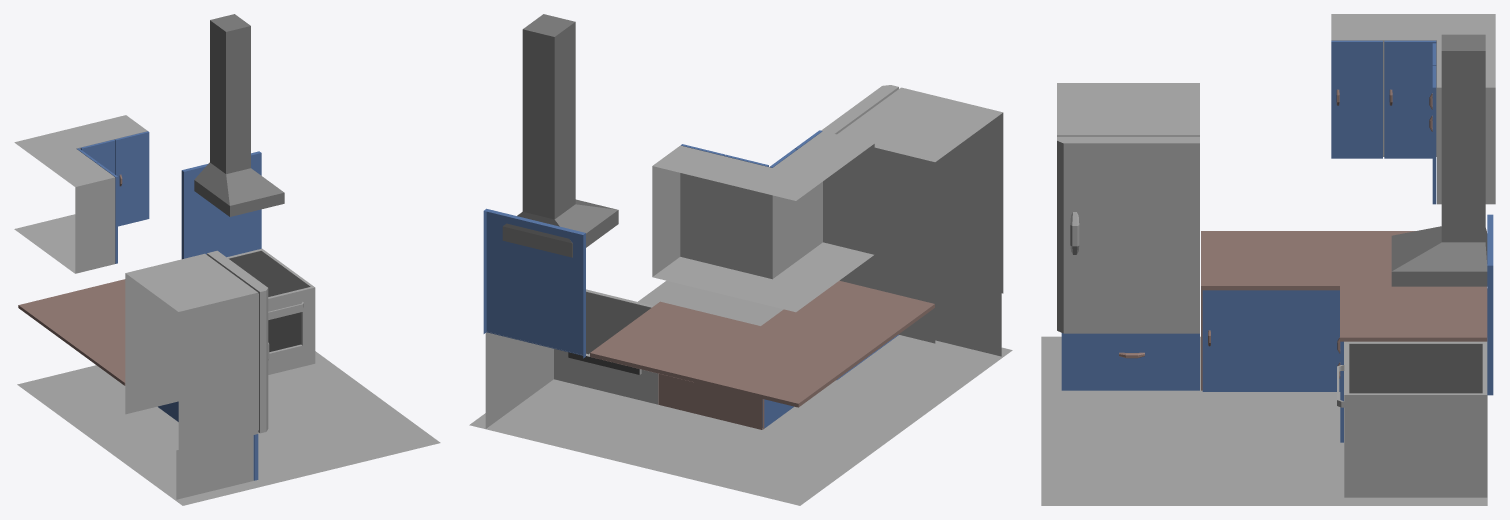
The model's file is Kitchen.fbx.
3 views of the same model, side by side, from view 1: azimuth 30°, elevation 25°; view 2: azimuth 150°, elevation 25°; view 3: azimuth 270°, elevation 25° (orthographic). The views are drawn at different scales.
Visible parts, largest first — view 1: Kitchen; view 2: Kitchen; view 3: Kitchen.
Part boxes in pixels (x1=…): Kitchen: x1=14, y1=14, x2=440, y2=505; Kitchen: x1=469, y1=14, x2=1012, y2=505; Kitchen: x1=1041, y1=14, x2=1495, y2=505.
Size of the model in its own units: 413 by 468 by 486.
